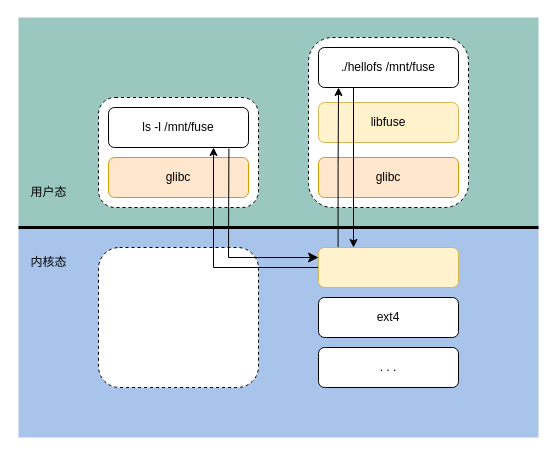
This 558x454 diagram has some shape labels left out. Here are the shapes that lost their labels. From the top down, the centre of each, then its label:
At point 388,267: "FUSE".
At point 178,317: "VFS".
